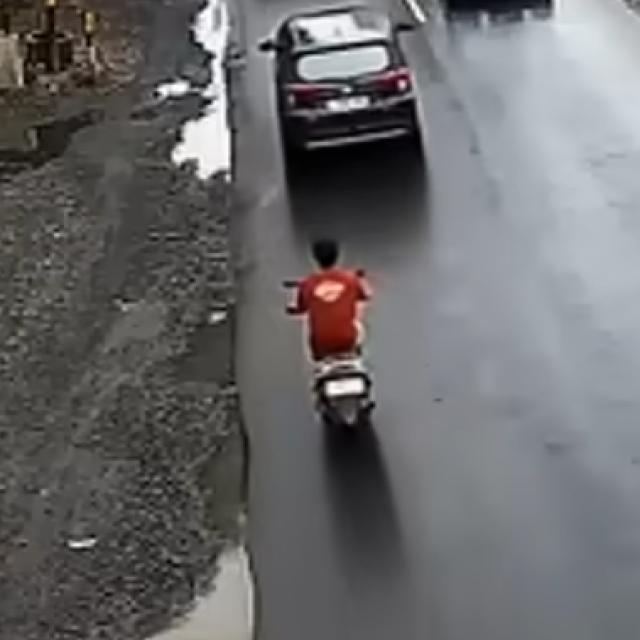WithoutHelmet: (292, 234, 375, 446)
